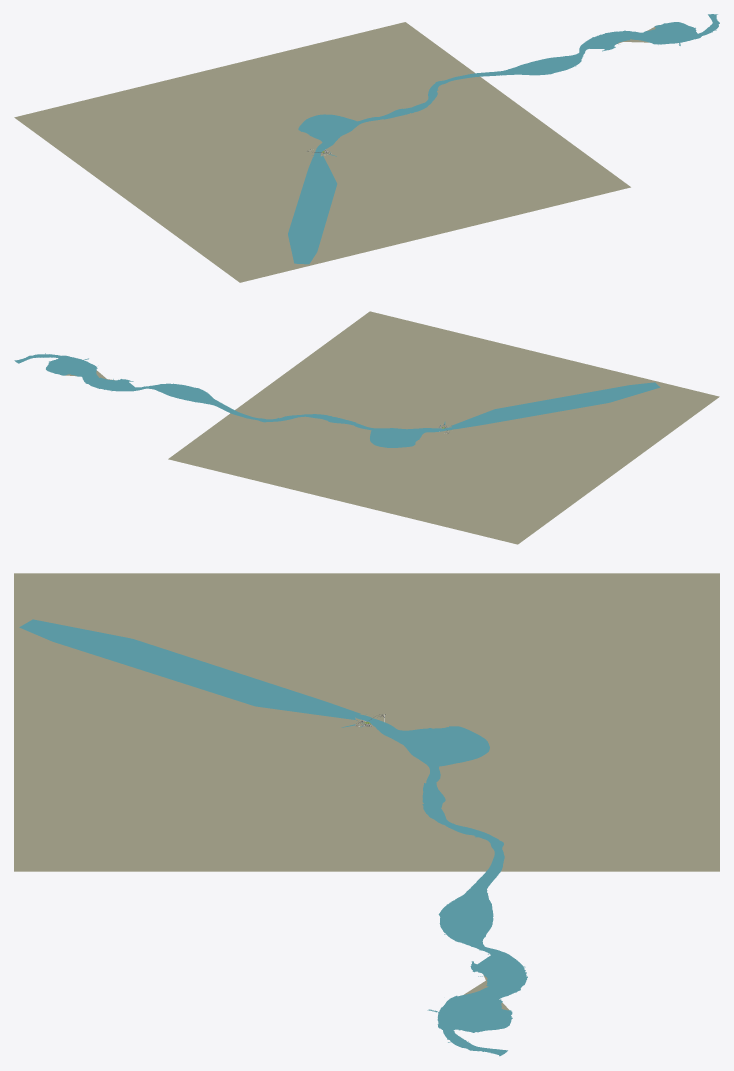
The model's file is static.glb.
3 views of the same model, one above another, from view 1: azimuth 30°, elevation 25°; view 2: azimuth 150°, elevation 25°; view 3: azimuth 270°, elevation 25° (orthographic). The views are drawn at different scales.
Parts seen in each view (by area): view 1: Far, Water; view 2: Far, Water; view 3: Far, Water.
Boxes of the visible parts, x1,y1,x2,y2 form: Far: [14, 22, 655, 282]; Water: [288, 14, 719, 264]; Far: [65, 311, 719, 544]; Water: [14, 353, 660, 447]; Far: [14, 573, 719, 1010]; Water: [19, 619, 527, 1056].
Bounding box in the file's own units: 129576 × 213 × 79995.
